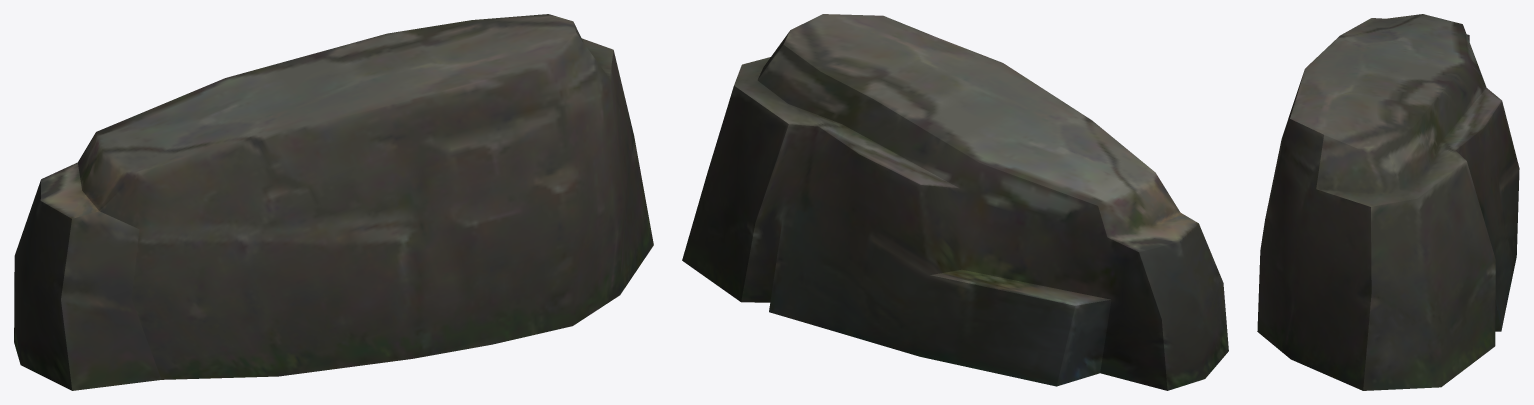
Rendered from FB1_heshi01.FBX.
3 renders of one model, left to right at view 1: azimuth 30°, elevation 25°; view 2: azimuth 150°, elevation 25°; view 3: azimuth 270°, elevation 25°, orthographic. The views are drawn at different scales.
Parts seen in each view (by area): view 1: FB1_heshi01_001; view 2: FB1_heshi01_001; view 3: FB1_heshi01_001.
Part boxes in pixels (x1=…): FB1_heshi01_001: x1=14, y1=14, x2=653, y2=390; FB1_heshi01_001: x1=682, y1=14, x2=1228, y2=390; FB1_heshi01_001: x1=1257, y1=14, x2=1519, y2=390.
Bounding box in the file's own units: 17.73 × 7.21 × 7.98.
1 material, 1 textured.
